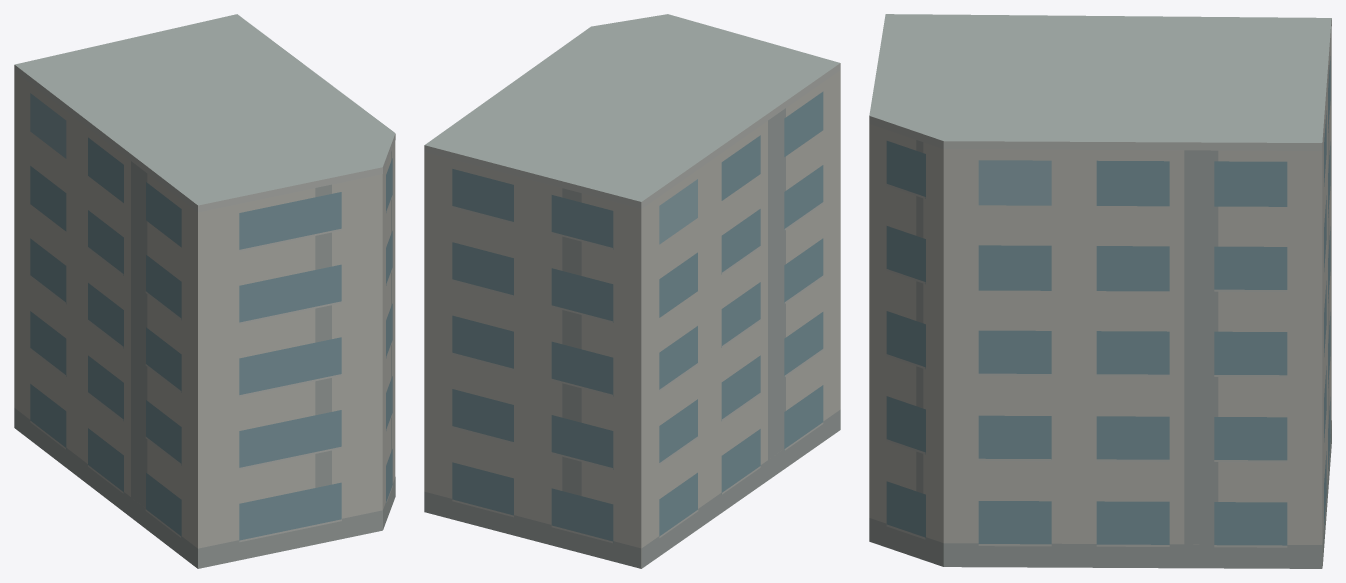
Rendered from survey-upis-32854840.glb.
3 views of the same model, side by side, from view 1: azimuth 30°, elevation 25°; view 2: azimuth 150°, elevation 25°; view 3: azimuth 270°, elevation 25° (orthographic). The views are drawn at different scales.
Visible parts, largest first — view 1: survey-upis-32854840.tmp; view 2: survey-upis-32854840.tmp; view 3: survey-upis-32854840.tmp.
Part boxes in pixels (x1,y1,x2,y2): survey-upis-32854840.tmp: (14,14,395,568); survey-upis-32854840.tmp: (424,14,840,568); survey-upis-32854840.tmp: (869,14,1331,568).
Bounding box in the file's own units: 8.46 × 13 × 12.8.
